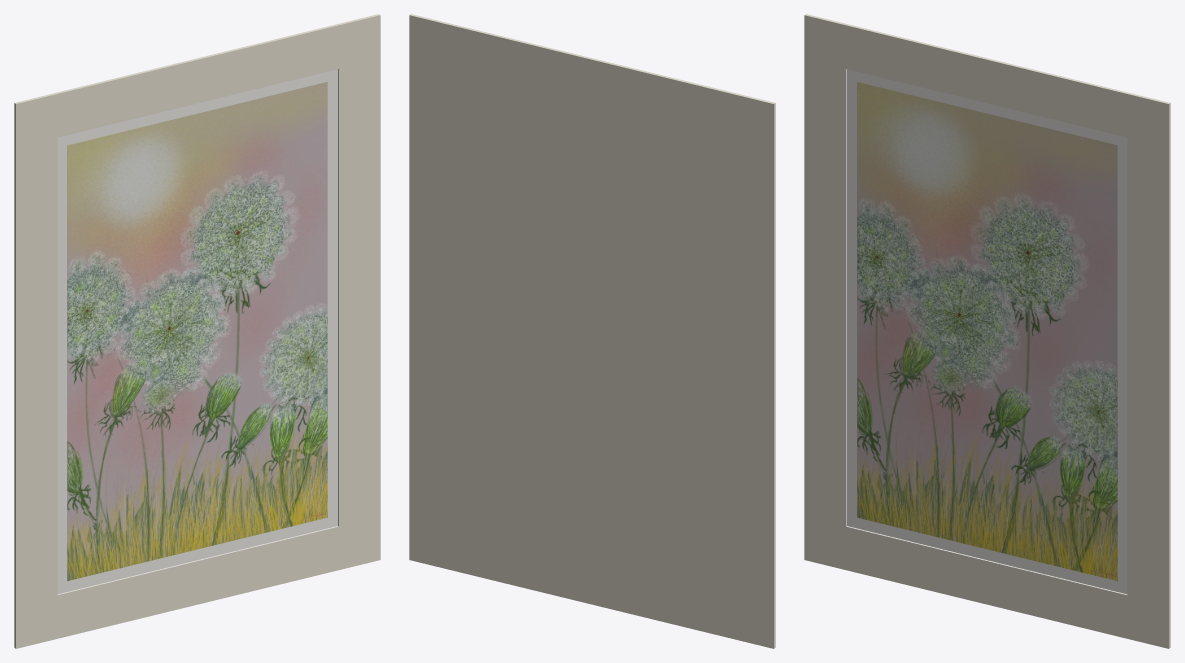
File: os010_moyen_passe-partout.glb
The picture shows the model from 3 angles, left to right: view 1: azimuth 30°, elevation 25°; view 2: azimuth 150°, elevation 25°; view 3: azimuth 330°, elevation 25°; orthographic projection.
Parts seen in each view (by area): view 1: os010_moyen_passe-partout; view 2: os010_moyen_passe-partout; view 3: os010_moyen_passe-partout.
Boxes of the visible parts, bbox=[...] form: os010_moyen_passe-partout: bbox=[14, 14, 380, 648]; os010_moyen_passe-partout: bbox=[409, 14, 775, 648]; os010_moyen_passe-partout: bbox=[804, 14, 1170, 648].
Bounding box in the file's own units: 0.7 × 1 × 0.0055.
4 materials, 1 textured.
